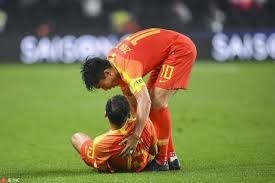falling: (66, 90, 160, 172)
